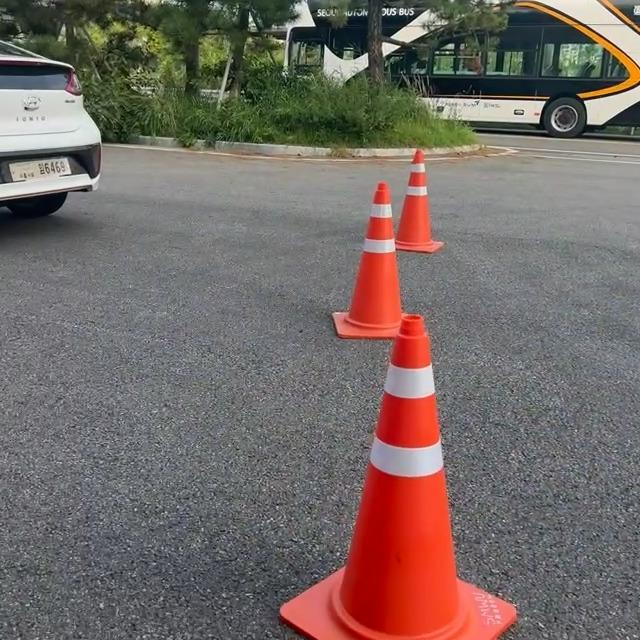fallen_object: (282, 309, 556, 640), (322, 153, 449, 359), (370, 145, 474, 301)
